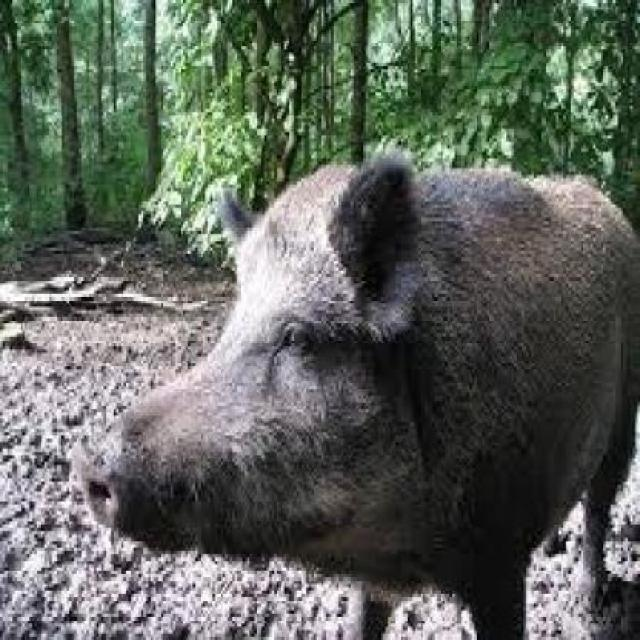wildboar: (83, 147, 640, 640)
